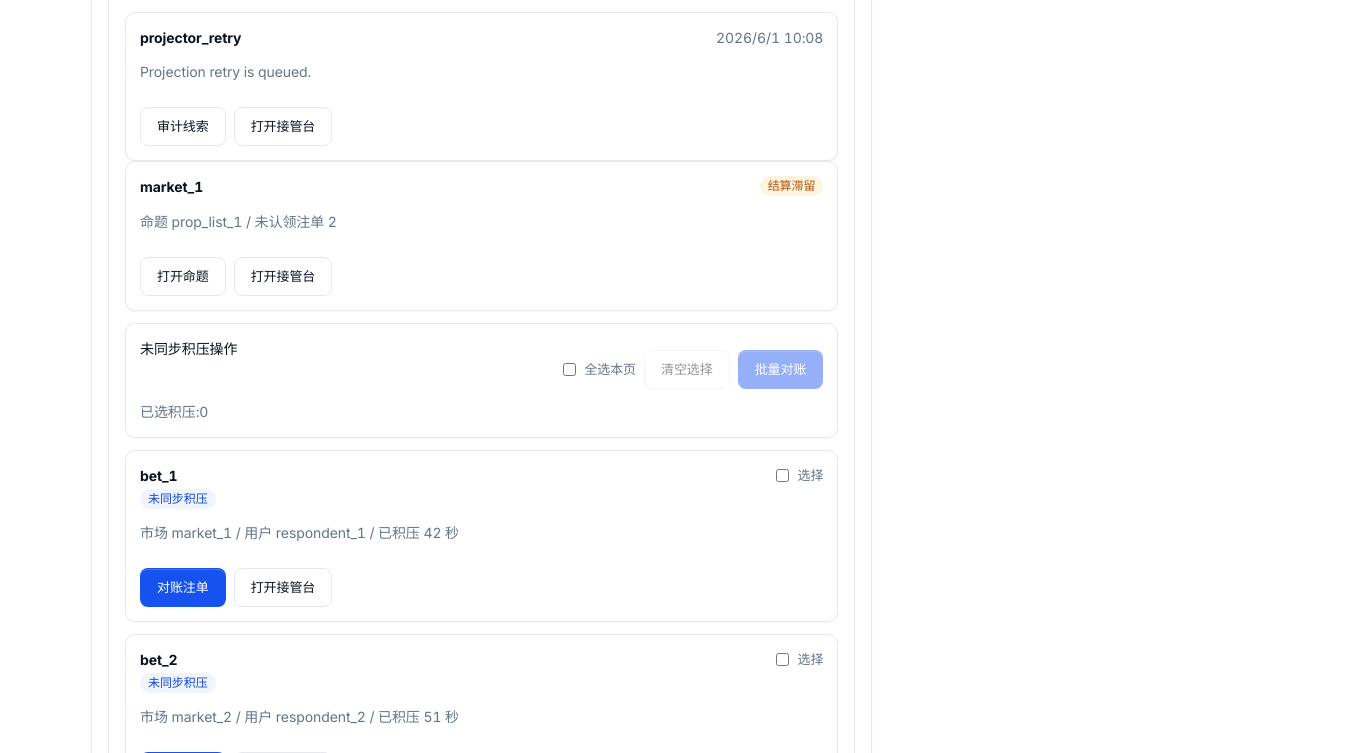
it: OpsConsolePage › supports batch reconcile actions for selected unsynced backlog bets on the health workspace
(page scrolled)
Expected: the button "批量对账" is shown, [738,350,823,389]
Click the checkbox named "全选本页积压注单": (570, 369) [563,363,576,376]
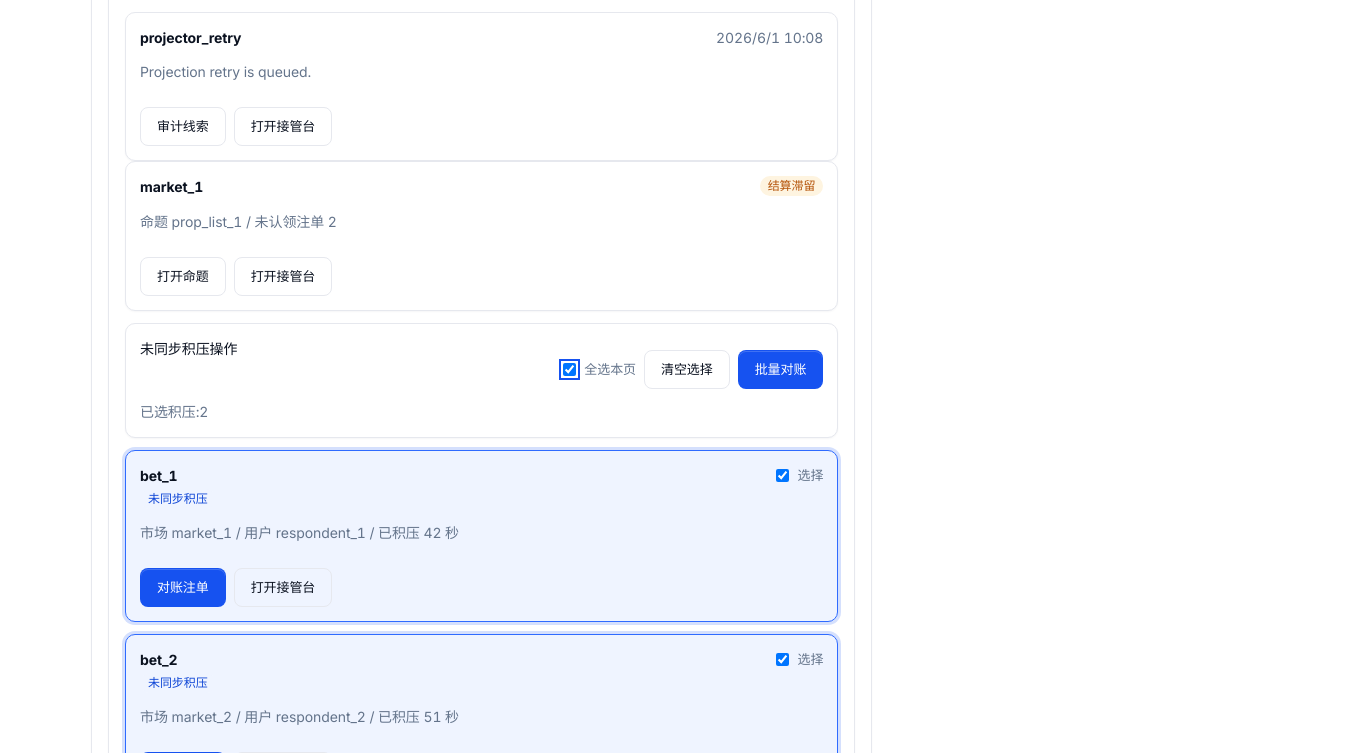
Click the button "批量对账": (781, 369) [738,350,823,389]
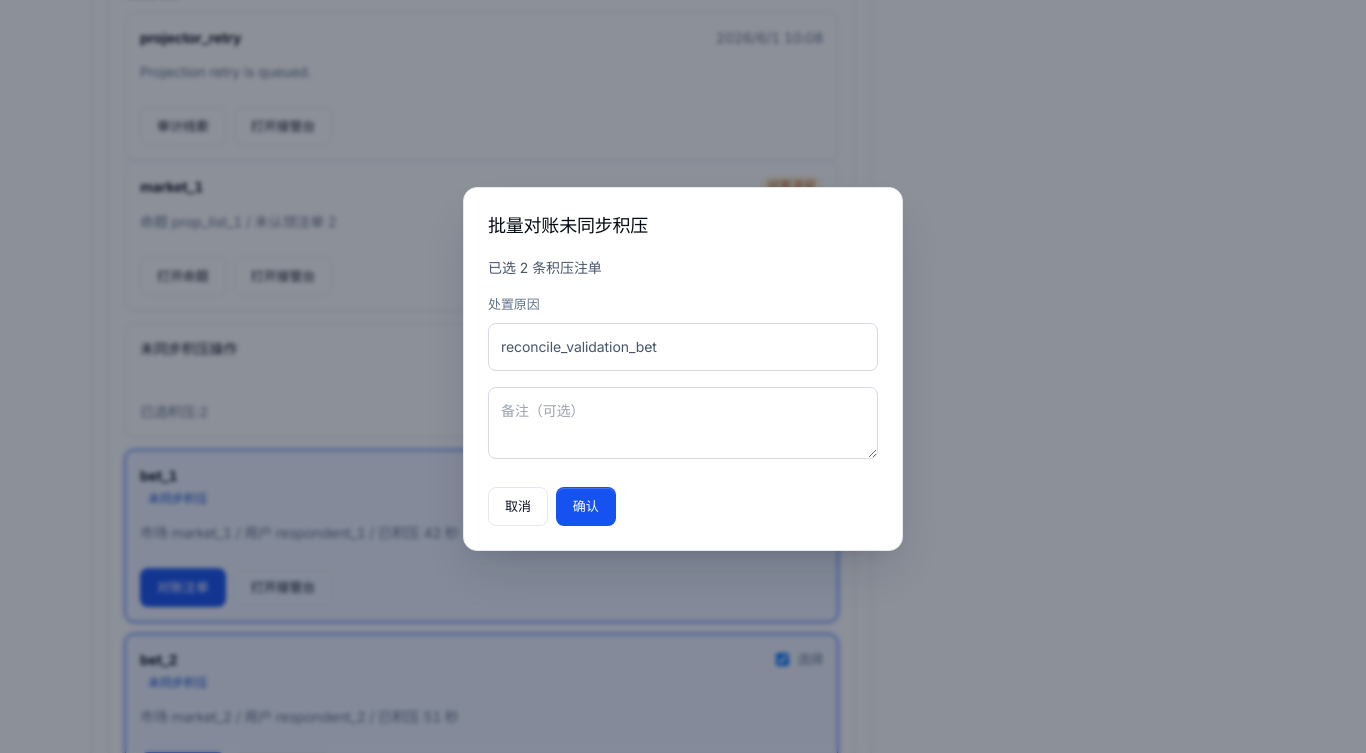
Click the button "确认": (586, 506) [556,487,616,526]
(page scrolled)
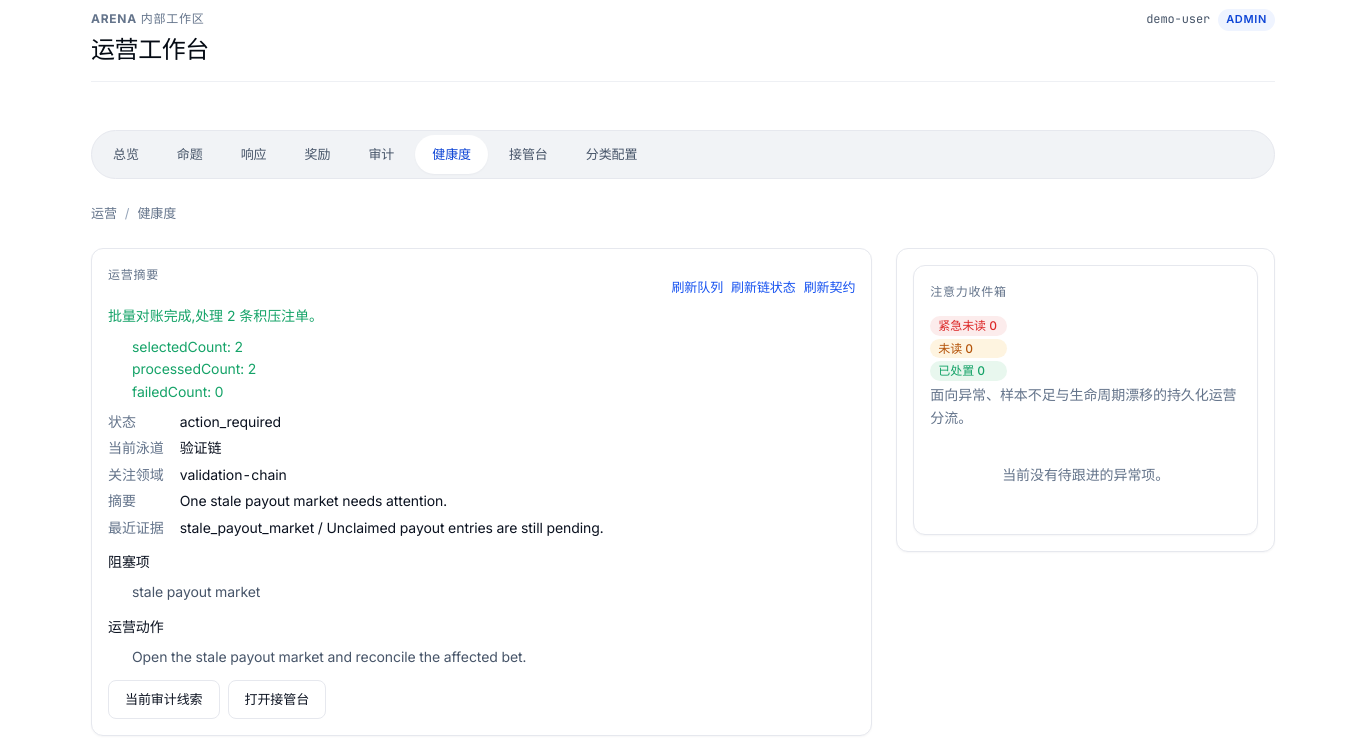
Now the list item "processedCount: 2" is shown, box [132,360,257,377]
